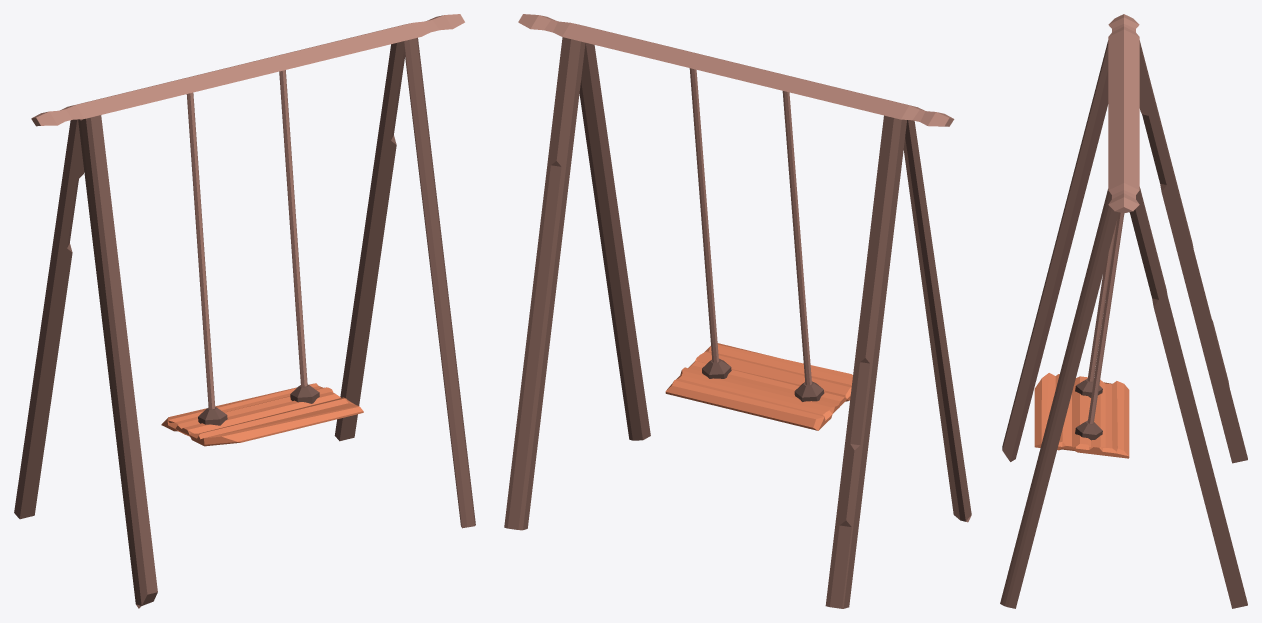
The model's file is RockingChair_1_Work.fbx.
3 views of the same model, side by side, from view 1: azimuth 30°, elevation 25°; view 2: azimuth 150°, elevation 25°; view 3: azimuth 270°, elevation 25° (orthographic). The views are drawn at different scales.
Parts seen in each view (by area): view 1: Cube.279, Cube.281, Cube.282, Cube.284, Cube.283, Cube.285, Cylinder.073, Cylinder.075; view 2: Cube.281, Cube.284, Cube.285, Cube.282, Cube.283, Cube.279, Cylinder.075, Cylinder.073; view 3: Cube.282, Cube.284, Cube.281, Cube.279, Cube.283, Cube.285, Cylinder.073, Cylinder.075, Cylinder.076.
Part boxes in pixels (x1=…): Cube.279: x1=78, y1=115, x2=157, y2=608; Cube.281: x1=14, y1=119, x2=84, y2=519; Cube.282: x1=403, y1=37, x2=475, y2=528; Cube.284: x1=334, y1=41, x2=404, y2=441; Cube.283: x1=31, y1=14, x2=464, y2=126; Cube.285: x1=161, y1=383, x2=363, y2=446; Cylinder.073: x1=279, y1=70, x2=307, y2=386; Cylinder.075: x1=186, y1=92, x2=215, y2=409; Cube.281: x1=825, y1=115, x2=906, y2=608; Cube.284: x1=504, y1=37, x2=585, y2=530; Cube.285: x1=665, y1=343, x2=852, y2=430; Cube.282: x1=579, y1=43, x2=650, y2=440; Cube.283: x1=518, y1=14, x2=954, y2=126; Cube.279: x1=903, y1=120, x2=971, y2=522; Cylinder.075: x1=782, y1=91, x2=811, y2=385; Cylinder.073: x1=689, y1=68, x2=718, y2=362; Cube.282: x1=1000, y1=189, x2=1118, y2=608; Cube.284: x1=1129, y1=187, x2=1247, y2=608; Cube.281: x1=1139, y1=40, x2=1247, y2=463; Cube.279: x1=1002, y1=40, x2=1108, y2=461; Cube.283: x1=1108, y1=14, x2=1139, y2=213; Cube.285: x1=1034, y1=373, x2=1129, y2=458; Cylinder.073: x1=1087, y1=212, x2=1124, y2=423; Cylinder.075: x1=1087, y1=221, x2=1116, y2=381; Cylinder.076: x1=1075, y1=420, x2=1102, y2=440.
Bounding box in the file's own units: 958 × 993 × 520.
